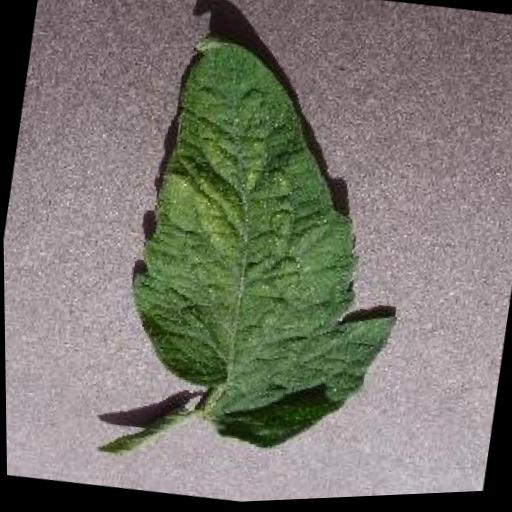Spider Mites: (100, 22, 437, 474)
